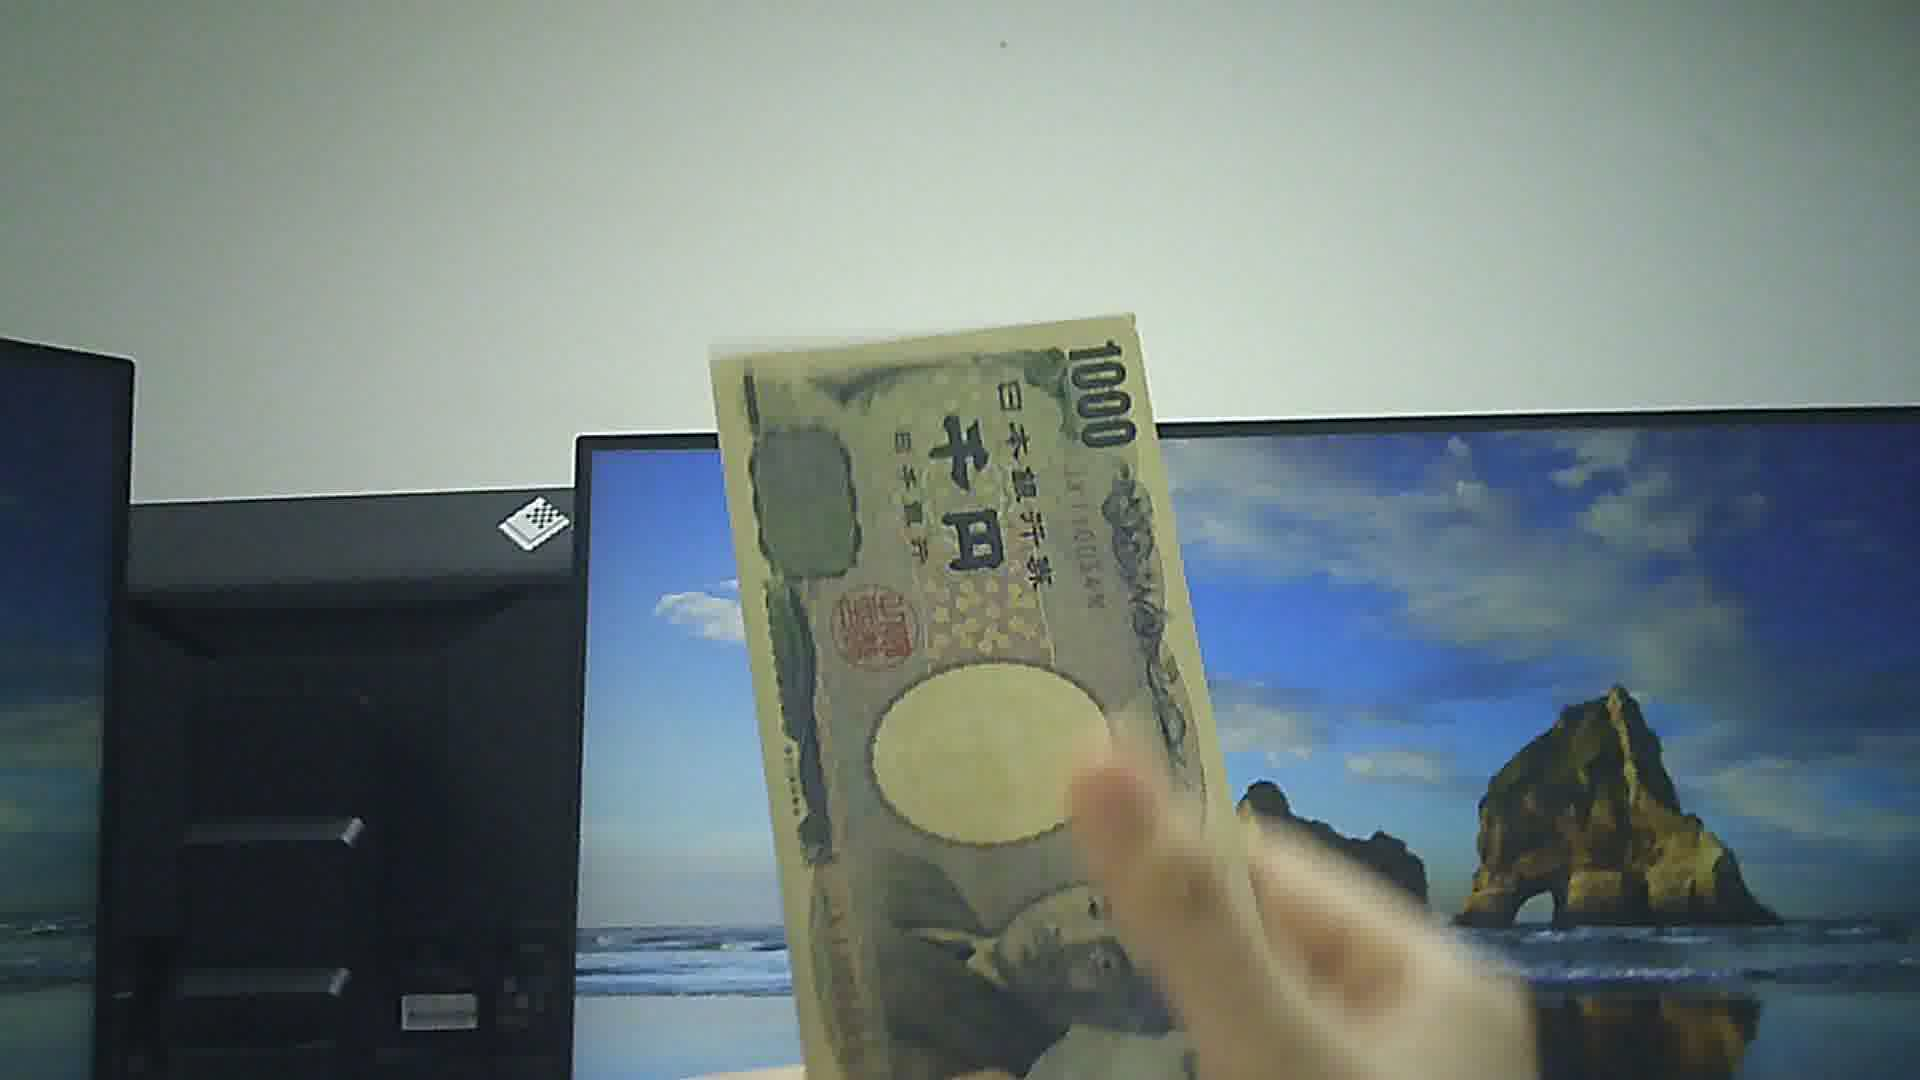1,000 Yen: (709, 319, 1247, 1073)
